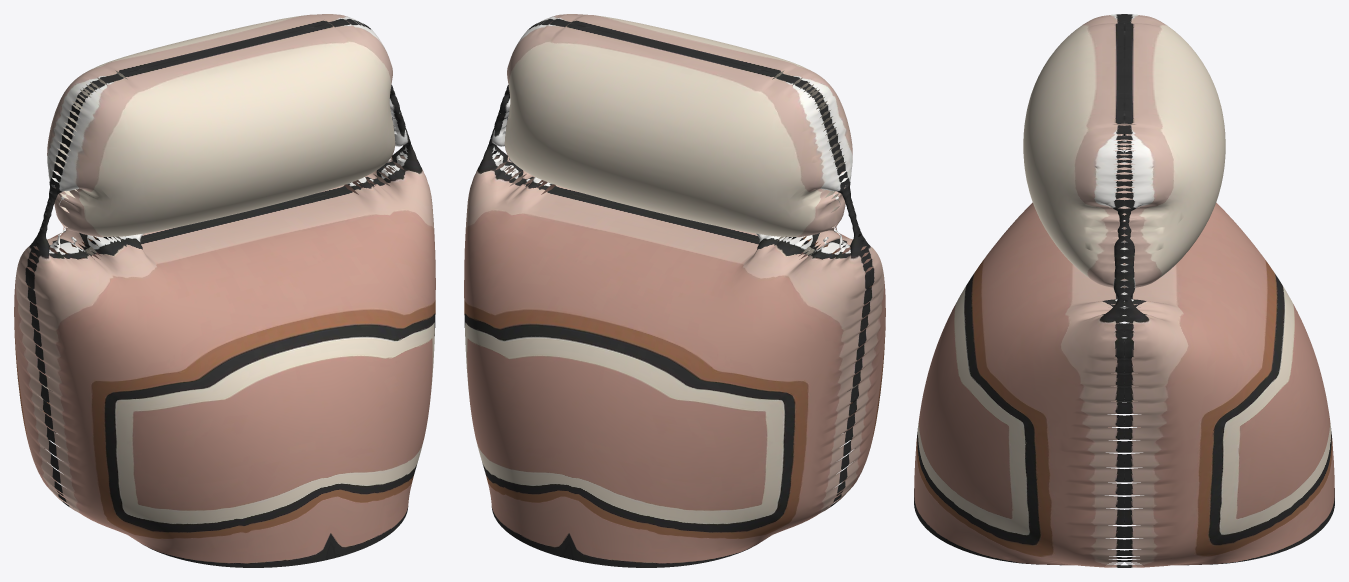
Rendered from front_buttress.glb.
The picture shows the model from 3 angles, left to right: view 1: azimuth 30°, elevation 25°; view 2: azimuth 150°, elevation 25°; view 3: azimuth 270°, elevation 25°; orthographic projection.
Parts seen in each view (by area): view 1: front_buttress; view 2: front_buttress; view 3: front_buttress.
Part boxes in pixels (x1,y1,x2,y2): front_buttress: (14,14,435,567); front_buttress: (464,14,885,567); front_buttress: (914,14,1334,567).
Size of the model in its own units: 0.9883 by 1.05 by 0.9291.
Materials: 1 (1 with a texture image).
